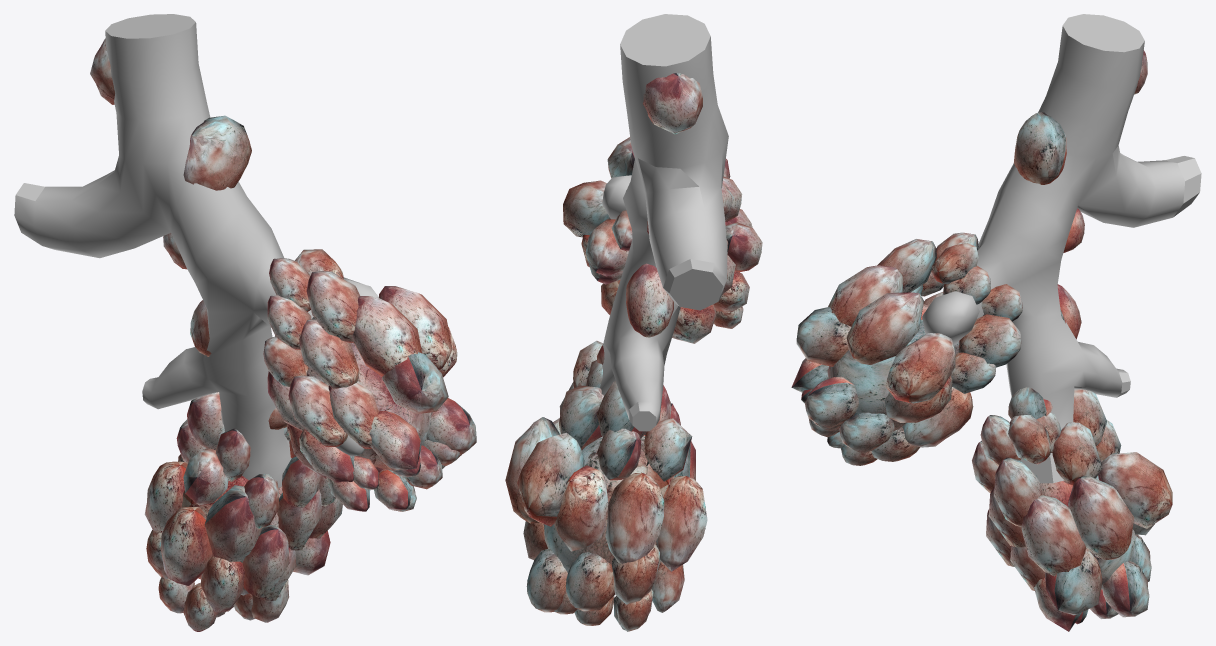
Rendered from alvoil.fbx.
3 renders of one model, left to right at view 1: azimuth 30°, elevation 25°; view 2: azimuth 150°, elevation 25°; view 3: azimuth 270°, elevation 25°, orthographic. The views are drawn at different scales.
Parts seen in each view (by area): view 1: pCylinder1, pSphere40, pSphere66, pSphere59, pSphere22, pSphere77, pSphere62, pSphere63, pSphere68, pSphere43, pSphere50, pSphere71 (+27 smaller); view 2: pCylinder1, pSphere57, pSphere29, pSphere59, pSphere58, pSphere41, pSphere38, pSphere94, pSphere5, pSphere27, pSphere47, pSphere60 (+21 smaller); view 3: pCylinder1, pSphere68, pSphere31, pSphere32, pSphere69, pSphere29, pSphere40, pSphere45, pSphere66, pSphere51, pSphere77, pSphere83 (+27 smaller).
Boxes of the visible parts, bbox=[...] form: pCylinder1: bbox=[14, 14, 315, 487]; pSphere40: bbox=[183, 115, 251, 190]; pSphere66: bbox=[352, 296, 422, 376]; pSphere59: bbox=[160, 507, 212, 585]; pSphere22: bbox=[204, 485, 262, 562]; pSphere77: bbox=[381, 352, 448, 414]; pSphere62: bbox=[306, 271, 359, 342]; pSphere63: bbox=[299, 319, 359, 389]; pSphere68: bbox=[379, 286, 452, 369]; pSphere43: bbox=[288, 375, 347, 446]; pSphere50: bbox=[242, 525, 289, 597]; pSphere71: bbox=[369, 411, 421, 470]; pCylinder1: bbox=[600, 14, 728, 431]; pSphere57: bbox=[605, 472, 664, 563]; pSphere29: bbox=[517, 432, 584, 526]; pSphere59: bbox=[656, 476, 707, 571]; pSphere58: bbox=[554, 465, 608, 551]; pSphere41: bbox=[643, 72, 702, 134]; pSphere38: bbox=[626, 263, 673, 337]; pSphere94: bbox=[543, 435, 674, 572]; pSphere5: bbox=[565, 552, 614, 611]; pSphere27: bbox=[644, 418, 692, 481]; pSphere47: bbox=[559, 385, 603, 449]; pSphere60: bbox=[526, 548, 567, 612]; pCylinder1: bbox=[942, 14, 1201, 483]; pSphere68: bbox=[846, 292, 923, 364]; pSphere31: bbox=[1068, 475, 1134, 559]; pSphere32: bbox=[1021, 495, 1085, 576]; pSphere69: bbox=[885, 333, 955, 403]; pSphere29: bbox=[1098, 452, 1172, 528]; pSphere40: bbox=[1014, 112, 1066, 184]; pSphere45: bbox=[827, 304, 959, 431]; pSphere66: bbox=[828, 265, 902, 326]; pSphere51: bbox=[1044, 548, 1102, 615]; pSphere77: bbox=[796, 307, 851, 366]; pSphere83: bbox=[959, 314, 1021, 367].
Size of the model in its own units: 33.85 by 67.15 by 44.35.
